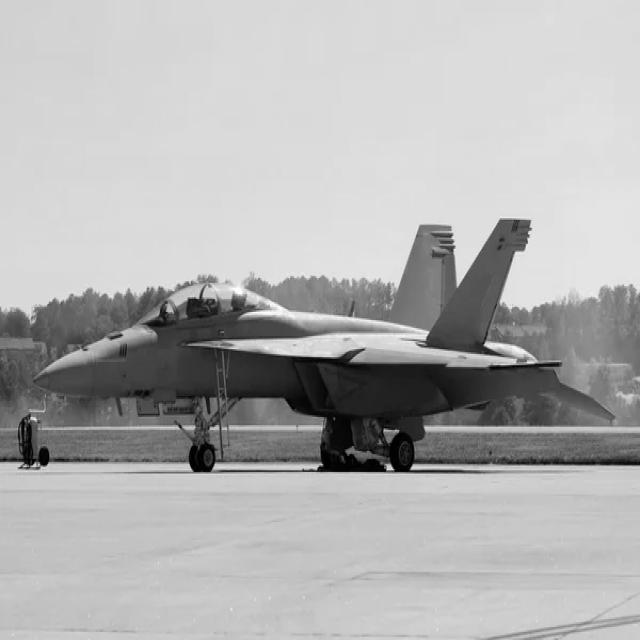Aircraft: (31, 199, 608, 477)
